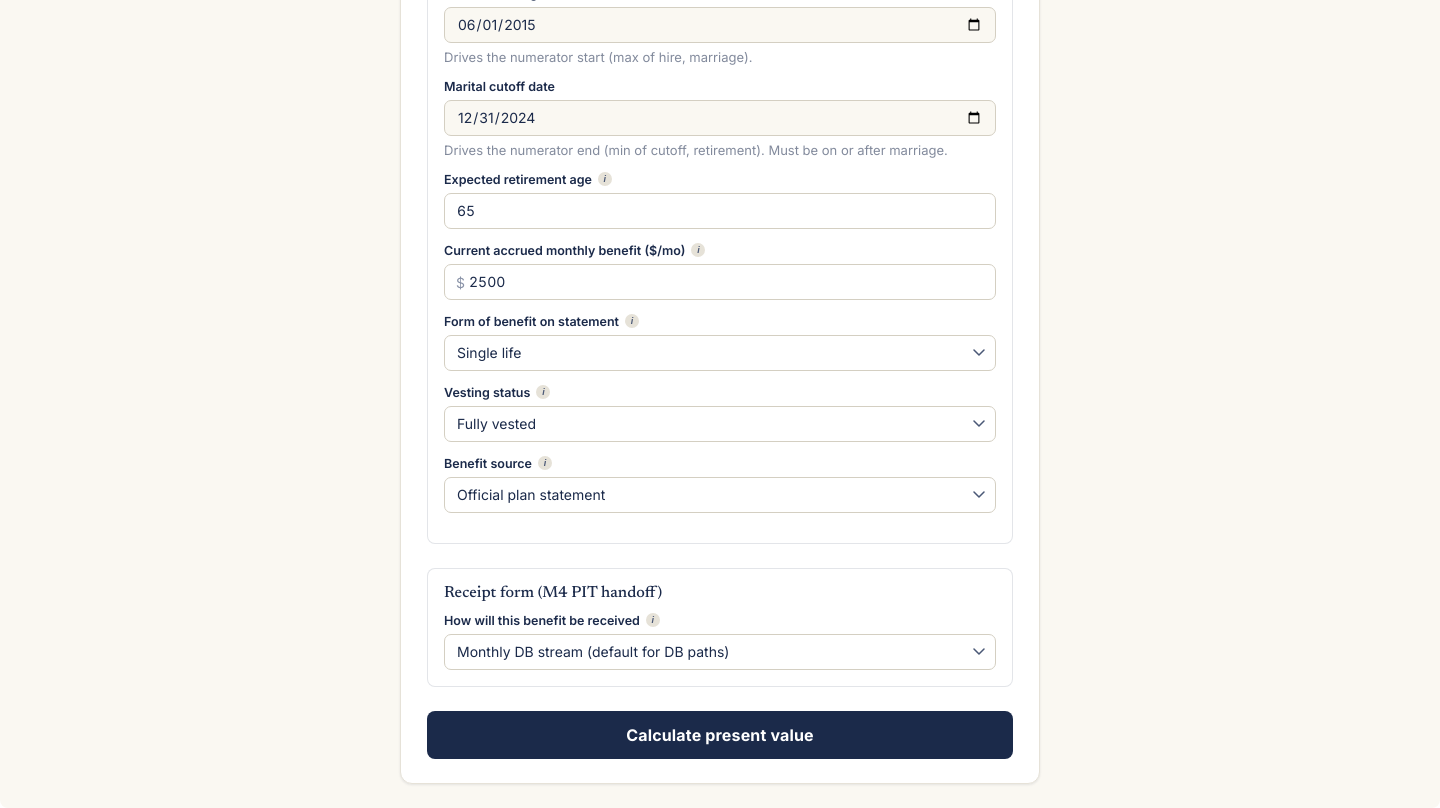
Test case: PVA orchestrator (§7.10.3 / LL-17) › resolvedPath rules (§7.2 v2) › TC-PVA-Resolver-R5: accrualStatus=accruing routes to tier_3 default (no override)
(page scrolled)
Click the button "Calculate present value" at (720, 735), box left=427, top=711, right=1013, bottom=759
(page scrolled)
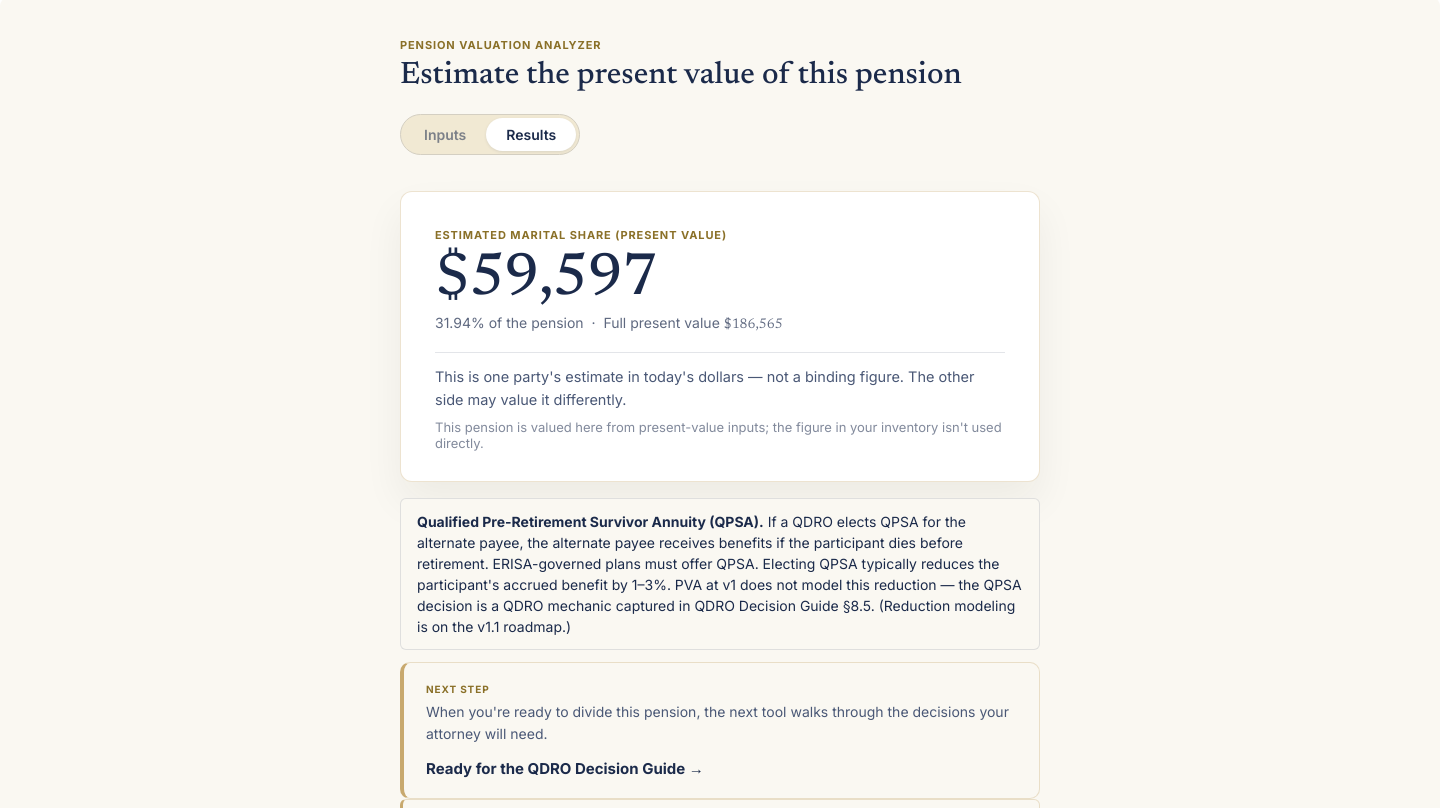
Now the text "$59,597" is shown, box left=435, top=250, right=657, bottom=310
